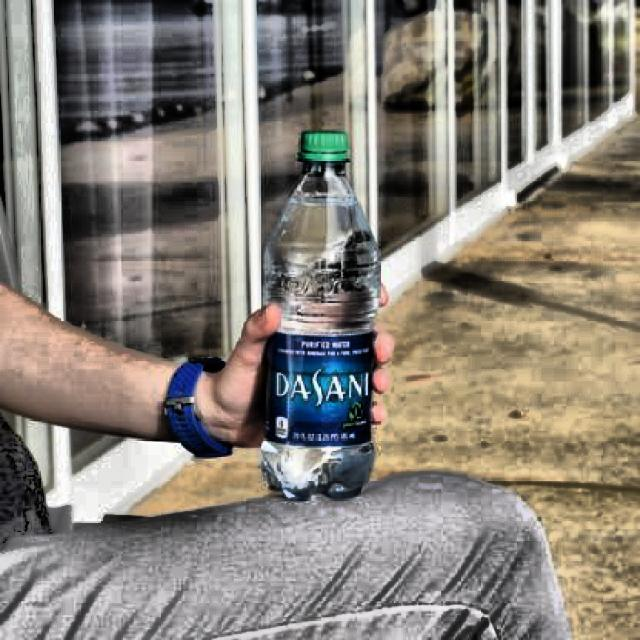Bottles: (258, 128, 379, 510)
